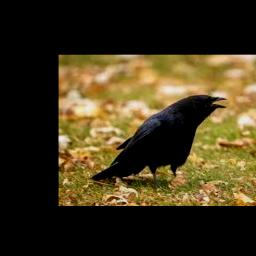Crow: (91, 94, 227, 188)
